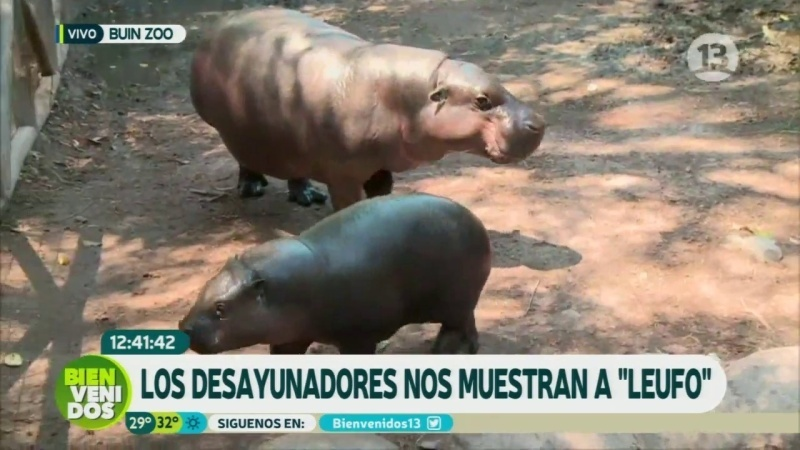hipopotamo: (179, 1, 562, 229), (157, 185, 493, 354)
